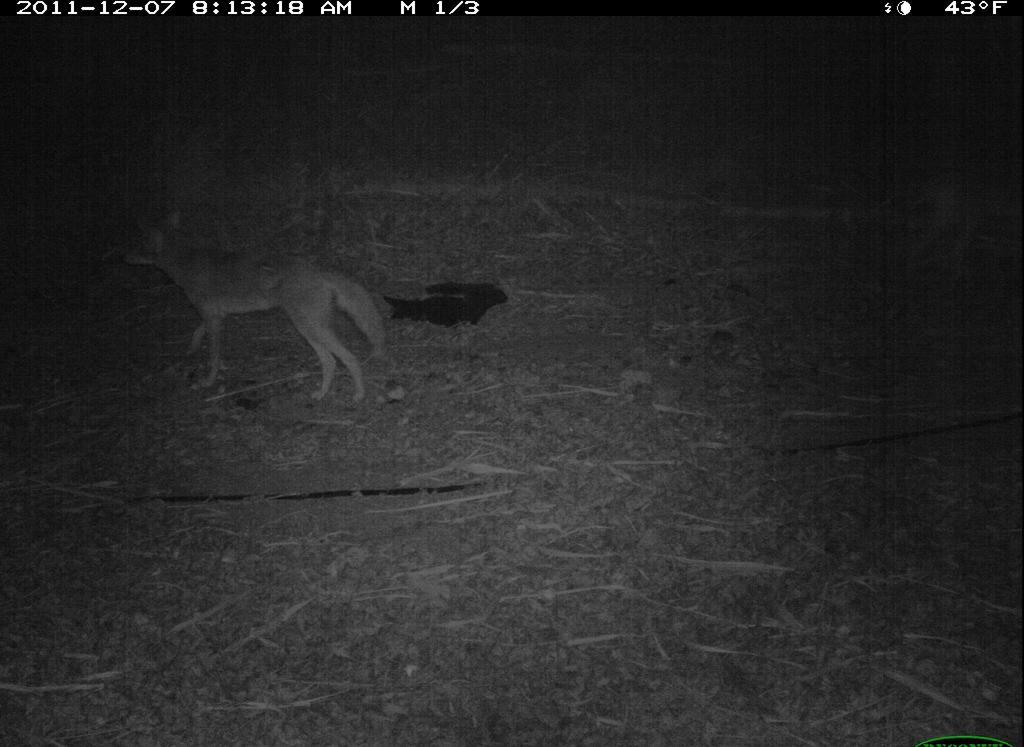coyote: (116, 207, 395, 410)
